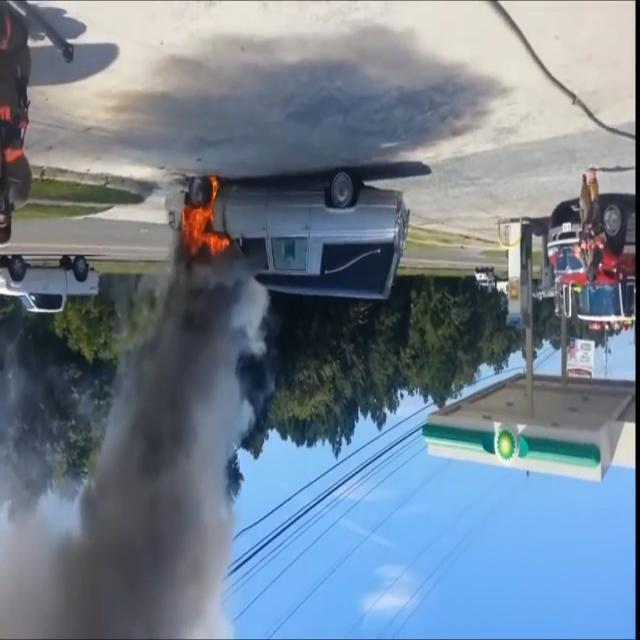fire: (176, 169, 236, 268)
